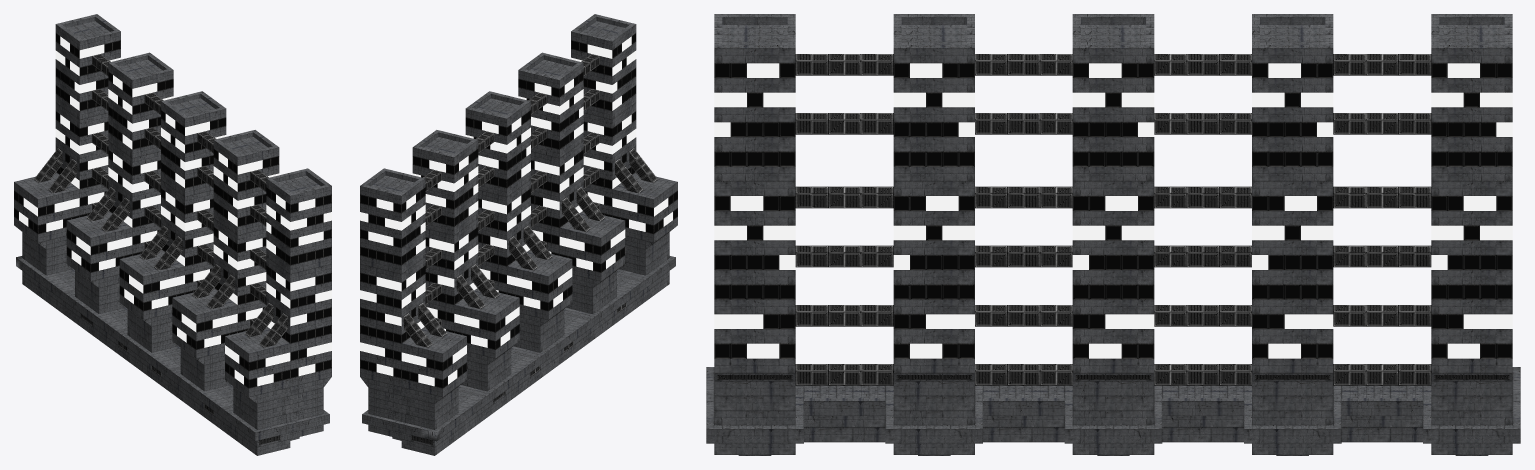
The model's file is Building3tileslong.glb.
The picture shows the model from 3 angles, left to right: view 1: azimuth 30°, elevation 25°; view 2: azimuth 150°, elevation 25°; view 3: azimuth 270°, elevation 25°; orthographic projection. The views are drawn at different scales.
Visible parts, largest first — view 1: Cube.010; view 2: Cube.010; view 3: Cube.010.
Part boxes in pixels (box(x1,y1,x2,y2)): Cube.010: box(14, 14, 331, 455); Cube.010: box(360, 14, 677, 455); Cube.010: box(706, 14, 1520, 455).
Bounding box in the file's own units: 1.87 × 5.41 × 9.34.
Materials: 2 (1 with a texture image).
